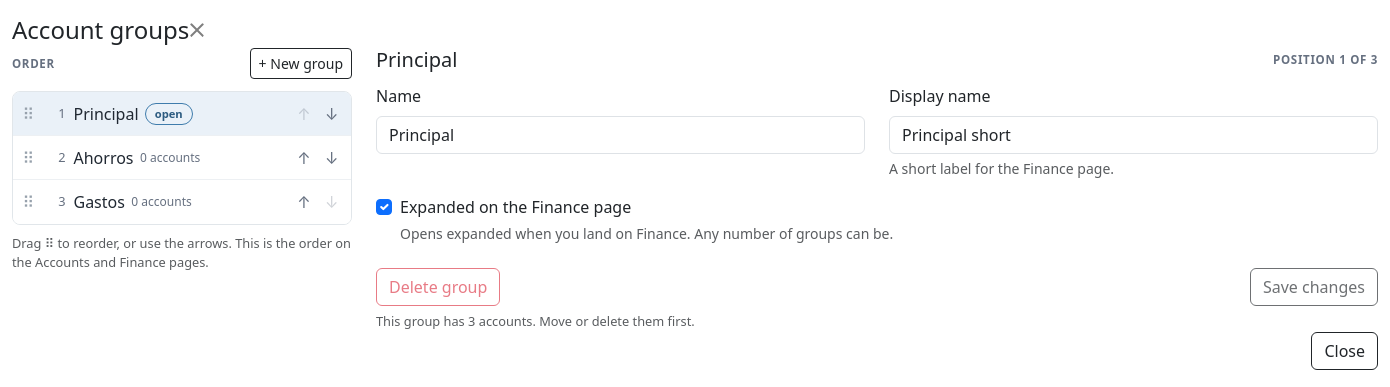
Test case: AccountsGroupsComponent template › offers no Delete for a new group
Click the button with id "new-group". click: [301, 64]
box: [250,48,352,79]
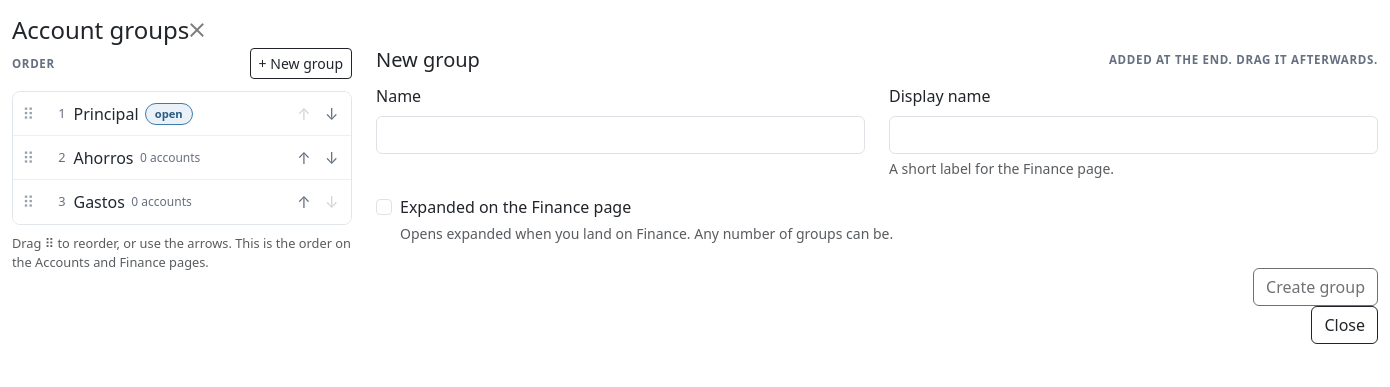
Expected: the button with id "delete-group" is gone
Expected: the button with id "save-group" reads "Create group", [1253,268,1378,306]
